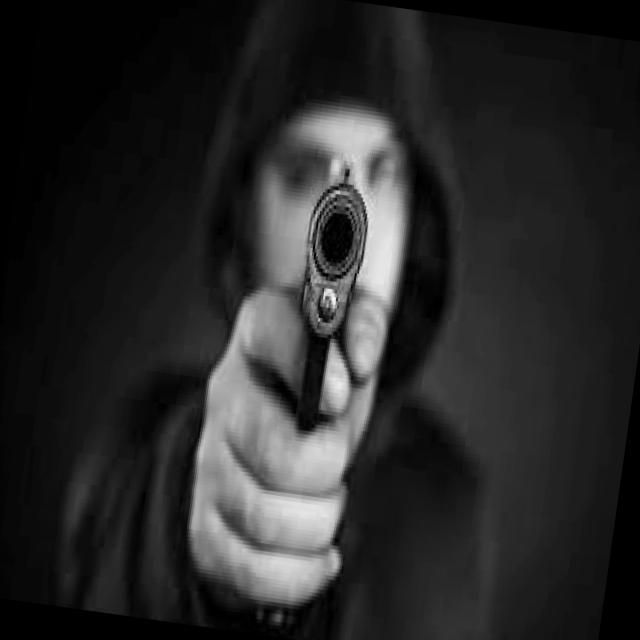gun: (279, 161, 376, 436)
